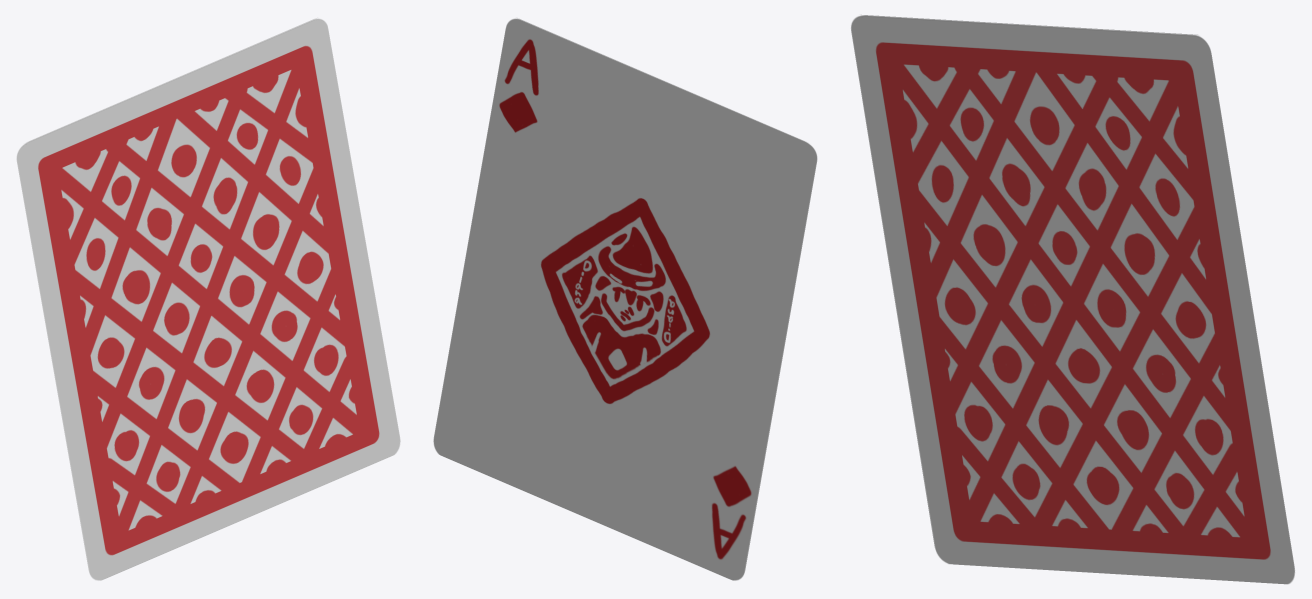
The model's file is aceofdiamondsgw.glb.
3 views of the same model, side by side, from view 1: azimuth 30°, elevation 25°; view 2: azimuth 150°, elevation 25°; view 3: azimuth 330°, elevation 25° (orthographic). The views are drawn at different scales.
Visible parts, largest first — view 1: Cube.001, Cube; view 2: Cube, Cube.001; view 3: Cube.001, Cube.
Boxes of the visible parts, <box> form: Cube.001: <box>17,20,400,580</box>; Cube: <box>16,18,398,572</box>; Cube: <box>434,18,817,579</box>; Cube.001: <box>433,30,816,580</box>; Cube.001: <box>851,16,1294,584</box>; Cube: <box>851,15,1294,567</box>.
Bounding box in the file's own units: 0.9823 × 1.24 × 0.0001.
Materials: 2 (2 with a texture image).
